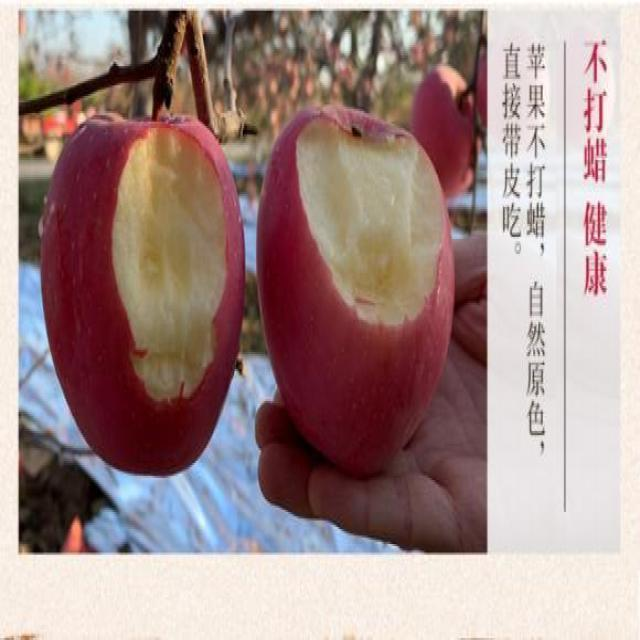Banana: (38, 107, 250, 487), (252, 98, 460, 468)
